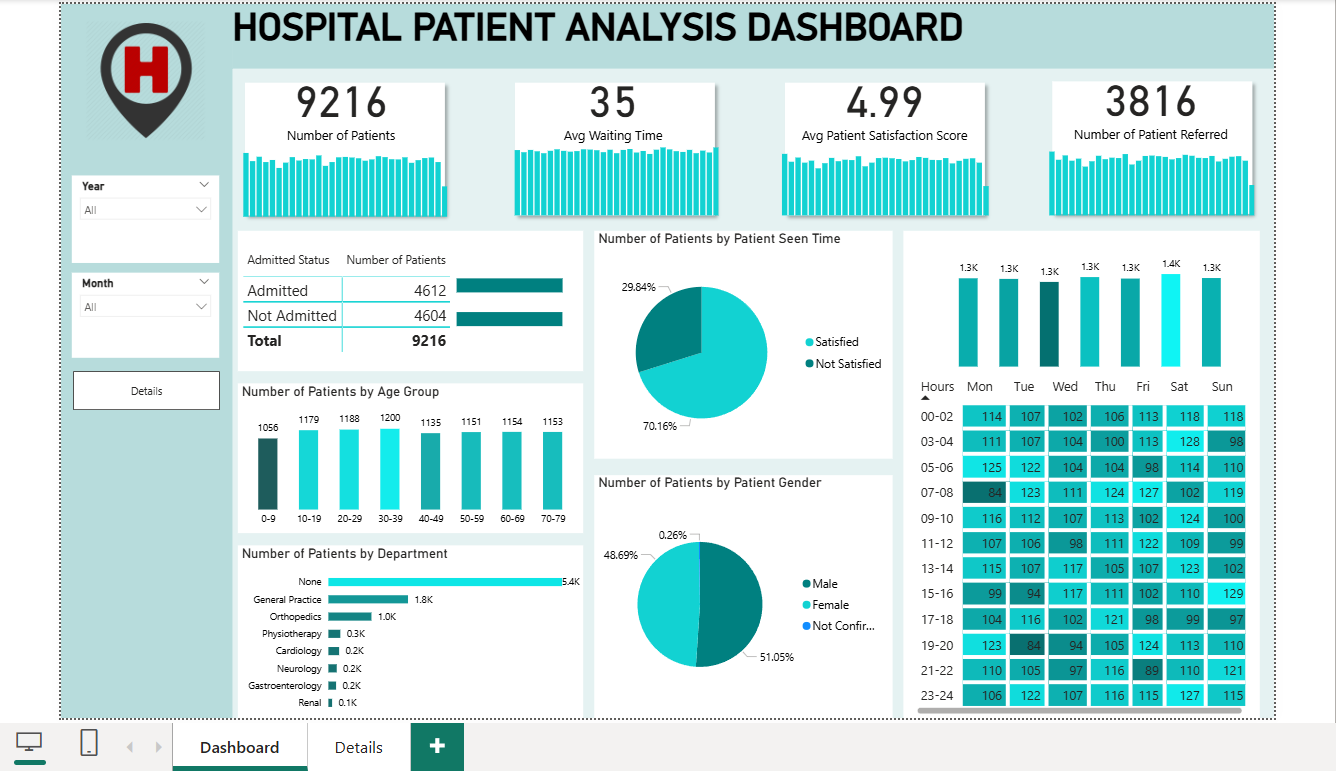

Layout of this report page (visuals, bound fields, positions):
{"tool":"powerbi","page":{"name":"Dashboard","canvas":[1530,900],"ordinal":0},"visuals":[{"type":"shape","box":[222.3,89.7,270,185.1],"z":0},{"type":"shape","box":[0,0,216.2,900.7],"z":1000},{"type":"shape","box":[216.2,0,1314.5,81.7],"z":2000},{"type":"slicer","fields":{"Values":["Date Table.Year"]},"box":[13.6,216.2,185.6,110.7],"z":3000},{"type":"card","fields":{"Values":["Hospital ER_Data.Number of Patients"]},"box":[274.8,69.8,157.4,113.5],"z":4000},{"type":"slicer","fields":{"Values":["Date Table.Month"]},"box":[13.6,338.8,185.6,107.3],"z":5000},{"type":"columnChart","fields":{"Category":["Date Table.Date.Variation.Date Hierarchy.Day"],"Y":["Hospital ER_Data.Number of Patients"]},"box":[224.8,158.3,267.3,115.8],"z":6000},{"type":"shape","box":[564.3,90.1,270,185.1],"z":7000},{"type":"card","fields":{"Values":["Hospital ER_Data.Avg Waiting Time"]},"box":[617.6,71.3,155.9,110.5],"z":8000},{"type":"columnChart","fields":{"Category":["Date Table.Date.Variation.Date Hierarchy.Day"],"Y":["Hospital ER_Data.Avg Waiting Time"]},"box":[567,160.1,267.3,112.4],"z":9000},{"type":"shape","box":[903.4,89.7,270,185.1],"z":10000},{"type":"card","fields":{"Values":["Hospital ER_Data.Avg Patient Satisfaction Score"]},"box":[928.6,71.5,221,110.5],"z":11000},{"type":"columnChart","fields":{"Category":["Date Table.Date.Variation.Date Hierarchy.Day"],"Y":["Hospital ER_Data.Number of Patients"]},"box":[904.1,160.1,270.7,112.4],"z":12000},{"type":"shape","box":[223.1,286.1,435.9,177.1],"z":13000},{"type":"shape","box":[1240.9,89.2,270,185.1],"z":14000},{"type":"card","fields":{"Values":["Hospital ER_Data.Number of Patient Referred"]},"box":[1266.9,74.6,214.9,101.4],"z":15000},{"type":"columnChart","fields":{"Category":["Date Table.Date.Variation.Date Hierarchy.Day"],"Y":["Hospital ER_Data.Number of Patients"]},"box":[1241.3,156.6,269,115.8],"z":16000},{"type":"pivotTable","fields":{"Rows":["Hospital ER_Data.Admitted Status"],"Values":["Hospital ER_Data.Number of Patients"]},"box":[224.8,304.8,279.2,146.4],"z":17000},{"type":"barChart","fields":{"Category":["Hospital ER_Data.Admitted Status"],"Y":["Hospital ER_Data.Number of Patients"]},"box":[493.8,311.6,183.9,124.3],"z":18000},{"type":"clusteredColumnChart","fields":{"Category":["Hospital ER_Data.Age Group"],"Y":["Hospital ER_Data.Number of Patients"]},"box":[223.1,478.5,435.9,189],"z":19000},{"type":"clusteredBarChart","title":"Number of Patients by Department","fields":{"Category":["Hospital ER_Data.Department Referral"],"Y":["Hospital ER_Data.Number of Patients"]},"box":[223.1,682.8,435.9,217.9],"z":20000},{"type":"pieChart","fields":{"Y":["Hospital ER_Data.Number of Patients"],"Category":["Hospital ER_Data.Patient Gender"]},"box":[672.6,594.2,376.3,306.5],"z":21000},{"type":"shape","box":[1062.5,286.1,449.5,614.7],"z":22000},{"type":"pieChart","fields":{"Category":["Hospital ER_Data.Patient Seen Time"],"Y":["Hospital ER_Data.Number of Patients"]},"box":[672.6,286.1,376.3,287.8],"z":23000},{"type":"pivotTable","fields":{"Rows":["Hospital ER_Data.Waittime Interval"],"Columns":["Date Table.Days"],"Values":["Hospital ER_Data.Number of Patients"]},"box":[1074.4,463.1,424,437.6],"z":24000},{"type":"clusteredColumnChart","fields":{"Y":["Hospital ER_Data.Number of Patients"],"Category":["Date Table.Days"]},"box":[1127.2,304.8,342.2,158.3],"z":25000},{"type":"image","box":[13.6,15.3,185.6,161.8],"z":26000},{"type":"pageNavigator","box":[15.3,463.1,185.6,49.4],"z":27000}]}

Visuals, with their boxes on the page's 1530x900 design canvas (x1, y1, x2, y2). These are canvas units, not pixel positions in the 1336x771 screenshot, which may show the page scaled, cropped or inside an application window:
shape: select_region(222, 90, 492, 275)
shape: select_region(0, 0, 216, 901)
shape: select_region(216, 0, 1531, 82)
slicer - Date Table.Year: select_region(14, 216, 199, 327)
card - Hospital ER_Data.Number of Patients: select_region(275, 70, 432, 183)
slicer - Date Table.Month: select_region(14, 339, 199, 446)
columnChart - Date Table.Date.Variation.Date Hierarchy.Day x Hospital ER_Data.Number of Patients: select_region(225, 158, 492, 274)
shape: select_region(564, 90, 834, 275)
card - Hospital ER_Data.Avg Waiting Time: select_region(618, 71, 774, 182)
columnChart - Date Table.Date.Variation.Date Hierarchy.Day x Hospital ER_Data.Avg Waiting Time: select_region(567, 160, 834, 272)
shape: select_region(903, 90, 1173, 275)
card - Hospital ER_Data.Avg Patient Satisfaction Score: select_region(929, 72, 1150, 182)
columnChart - Date Table.Date.Variation.Date Hierarchy.Day x Hospital ER_Data.Number of Patients: select_region(904, 160, 1175, 272)
shape: select_region(223, 286, 659, 463)
shape: select_region(1241, 89, 1511, 274)
card - Hospital ER_Data.Number of Patient Referred: select_region(1267, 75, 1482, 176)
columnChart - Date Table.Date.Variation.Date Hierarchy.Day x Hospital ER_Data.Number of Patients: select_region(1241, 157, 1510, 272)
pivotTable - Hospital ER_Data.Admitted Status x Hospital ER_Data.Number of Patients: select_region(225, 305, 504, 451)
barChart - Hospital ER_Data.Admitted Status x Hospital ER_Data.Number of Patients: select_region(494, 312, 678, 436)
clusteredColumnChart - Hospital ER_Data.Age Group x Hospital ER_Data.Number of Patients: select_region(223, 478, 659, 668)
"Number of Patients by Department" clusteredBarChart: select_region(223, 683, 659, 901)
pieChart - Hospital ER_Data.Number of Patients x Hospital ER_Data.Patient Gender: select_region(673, 594, 1049, 901)
shape: select_region(1062, 286, 1512, 901)
pieChart - Hospital ER_Data.Patient Seen Time x Hospital ER_Data.Number of Patients: select_region(673, 286, 1049, 574)
pivotTable - Hospital ER_Data.Waittime Interval x Date Table.Days: select_region(1074, 463, 1498, 901)
clusteredColumnChart - Hospital ER_Data.Number of Patients x Date Table.Days: select_region(1127, 305, 1469, 463)
image: select_region(14, 15, 199, 177)
pageNavigator: select_region(15, 463, 201, 512)
